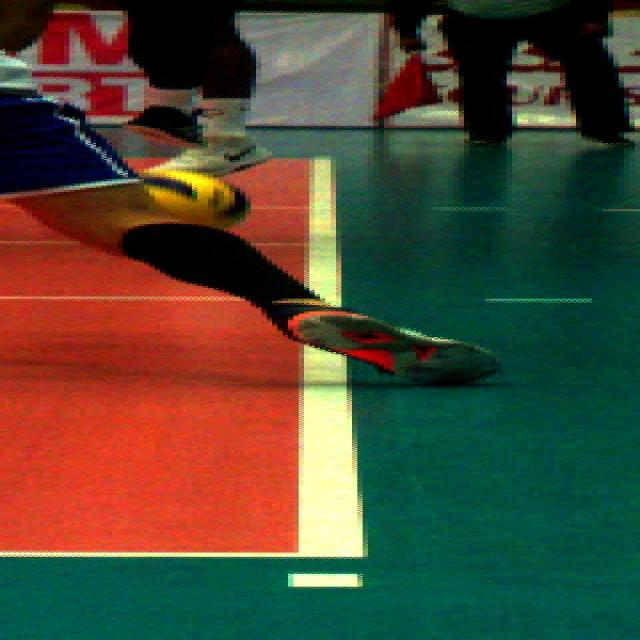Volleyball: (126, 165, 252, 227)
